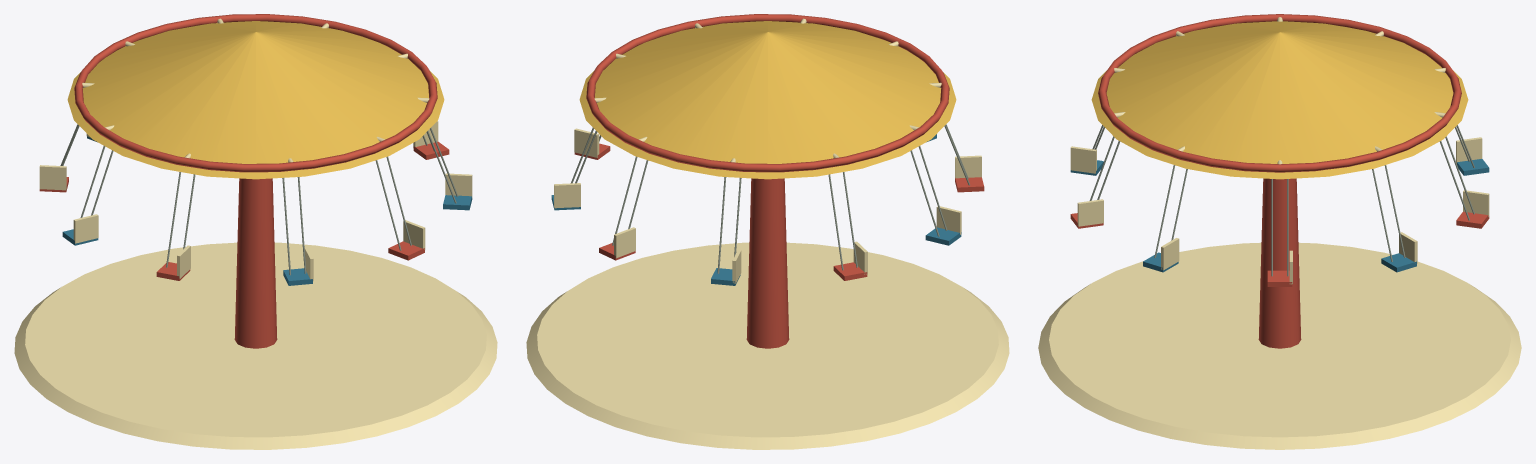
The model's file is chain-swing.glb.
3 renders of one model, left to right at view 1: azimuth 30°, elevation 25°; view 2: azimuth 150°, elevation 25°; view 3: azimuth 270°, elevation 25°, orthographic.
Parts seen in each view (by area): view 1: Park_chain-swing, SwingRotor; view 2: Park_chain-swing, SwingRotor; view 3: Park_chain-swing, SwingRotor.
Boxes of the visible parts, <box> form: Park_chain-swing: <box>14,178,497,449</box>; SwingRotor: <box>39,14,472,285</box>; Park_chain-swing: <box>526,178,1009,449</box>; SwingRotor: <box>551,14,984,285</box>; Park_chain-swing: <box>1038,178,1521,449</box>; SwingRotor: <box>1070,14,1489,286</box>.
Size of the model in its own units: 13.6 by 9.8 by 13.6.
